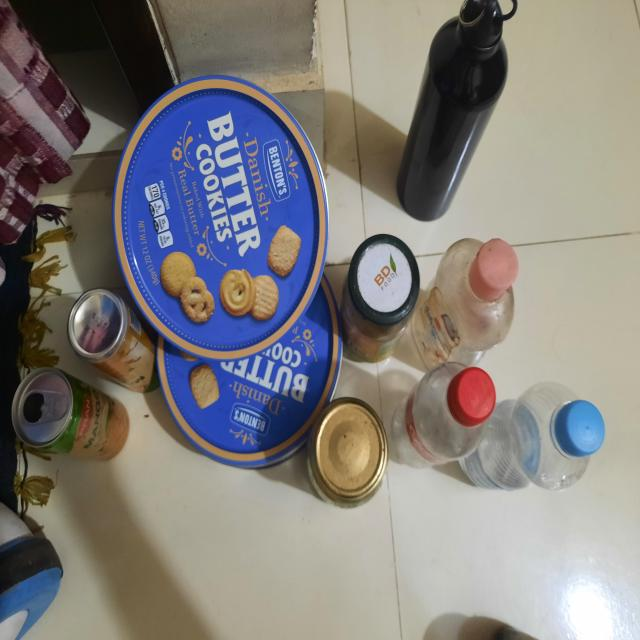Plastics: (422, 219, 604, 547)
can: (1, 78, 418, 501), (411, 1, 511, 227)
